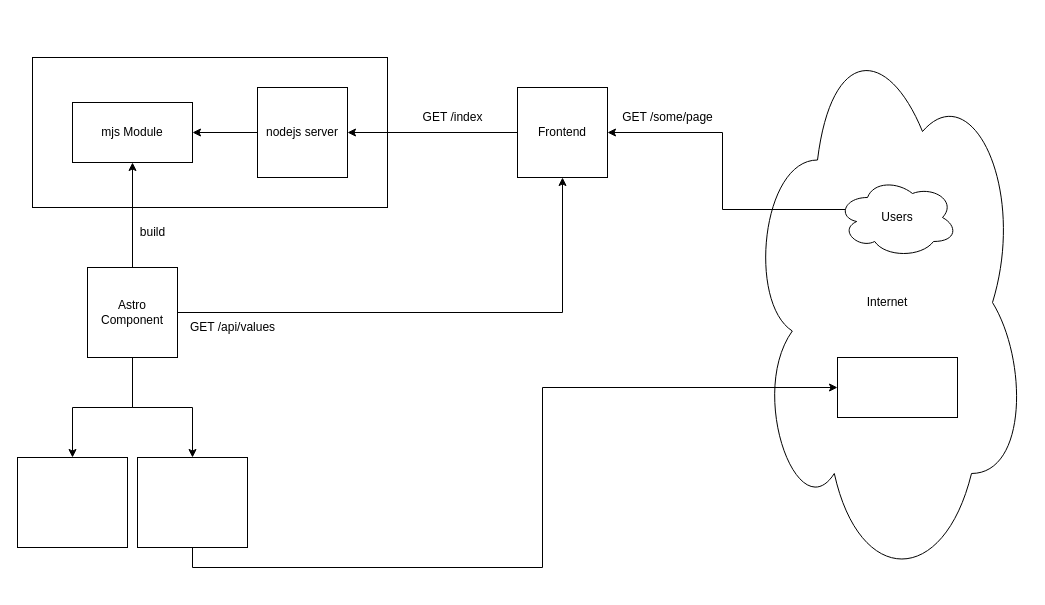
Image size: 1045x605. Some labels were removed from this diagram. Here are the shapes that lost their labels. From the top down, the centre of each, then its label:
At point 897,387: "coingecko API".
At point 72,502: "React StaticComponent".
At point 192,502: "React ApiComponent".
